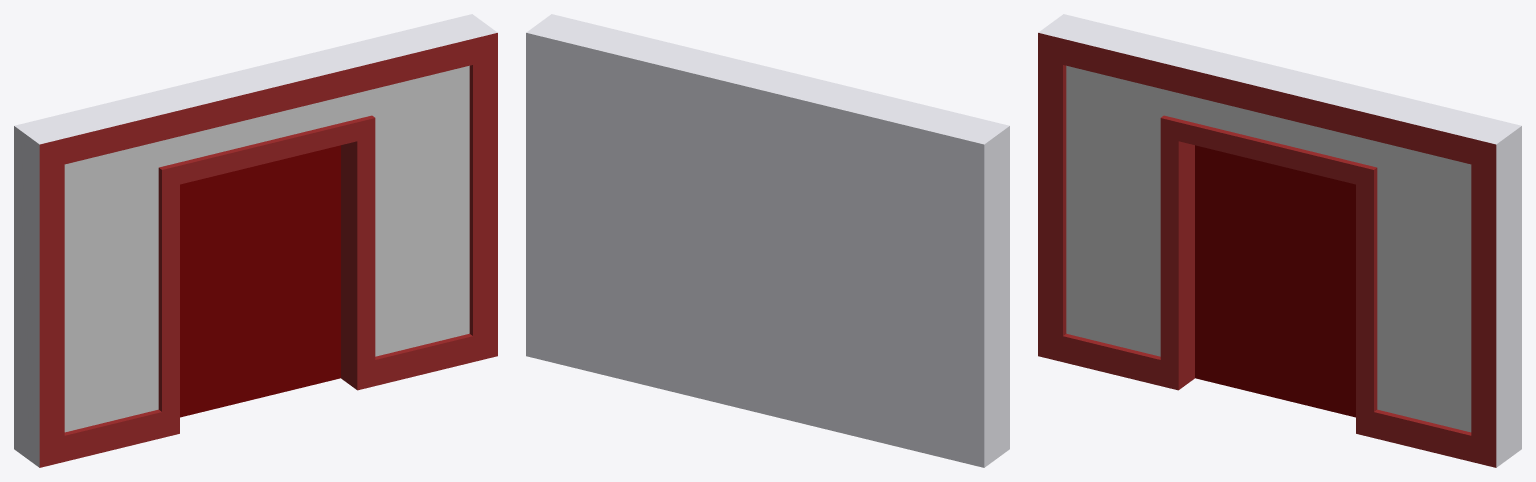
The model's file is Asian_Prop_Building_Modular_Wall_Doorway_01.FBX.
3 views of the same model, side by side, from view 1: azimuth 30°, elevation 25°; view 2: azimuth 150°, elevation 25°; view 3: azimuth 330°, elevation 25° (orthographic).
Visible parts, largest first — view 1: Asian_Prop_Building_Modular_Wall_Doorway_01; view 2: Asian_Prop_Building_Modular_Wall_Doorway_01; view 3: Asian_Prop_Building_Modular_Wall_Doorway_01.
Boxes of the visible parts, x1,y1,x2,y2 form: Asian_Prop_Building_Modular_Wall_Doorway_01: (14,14,497,467); Asian_Prop_Building_Modular_Wall_Doorway_01: (526,14,1009,467); Asian_Prop_Building_Modular_Wall_Doorway_01: (1038,14,1521,467).
Size of the model in its own units: 5167 by 3485 by 500.
